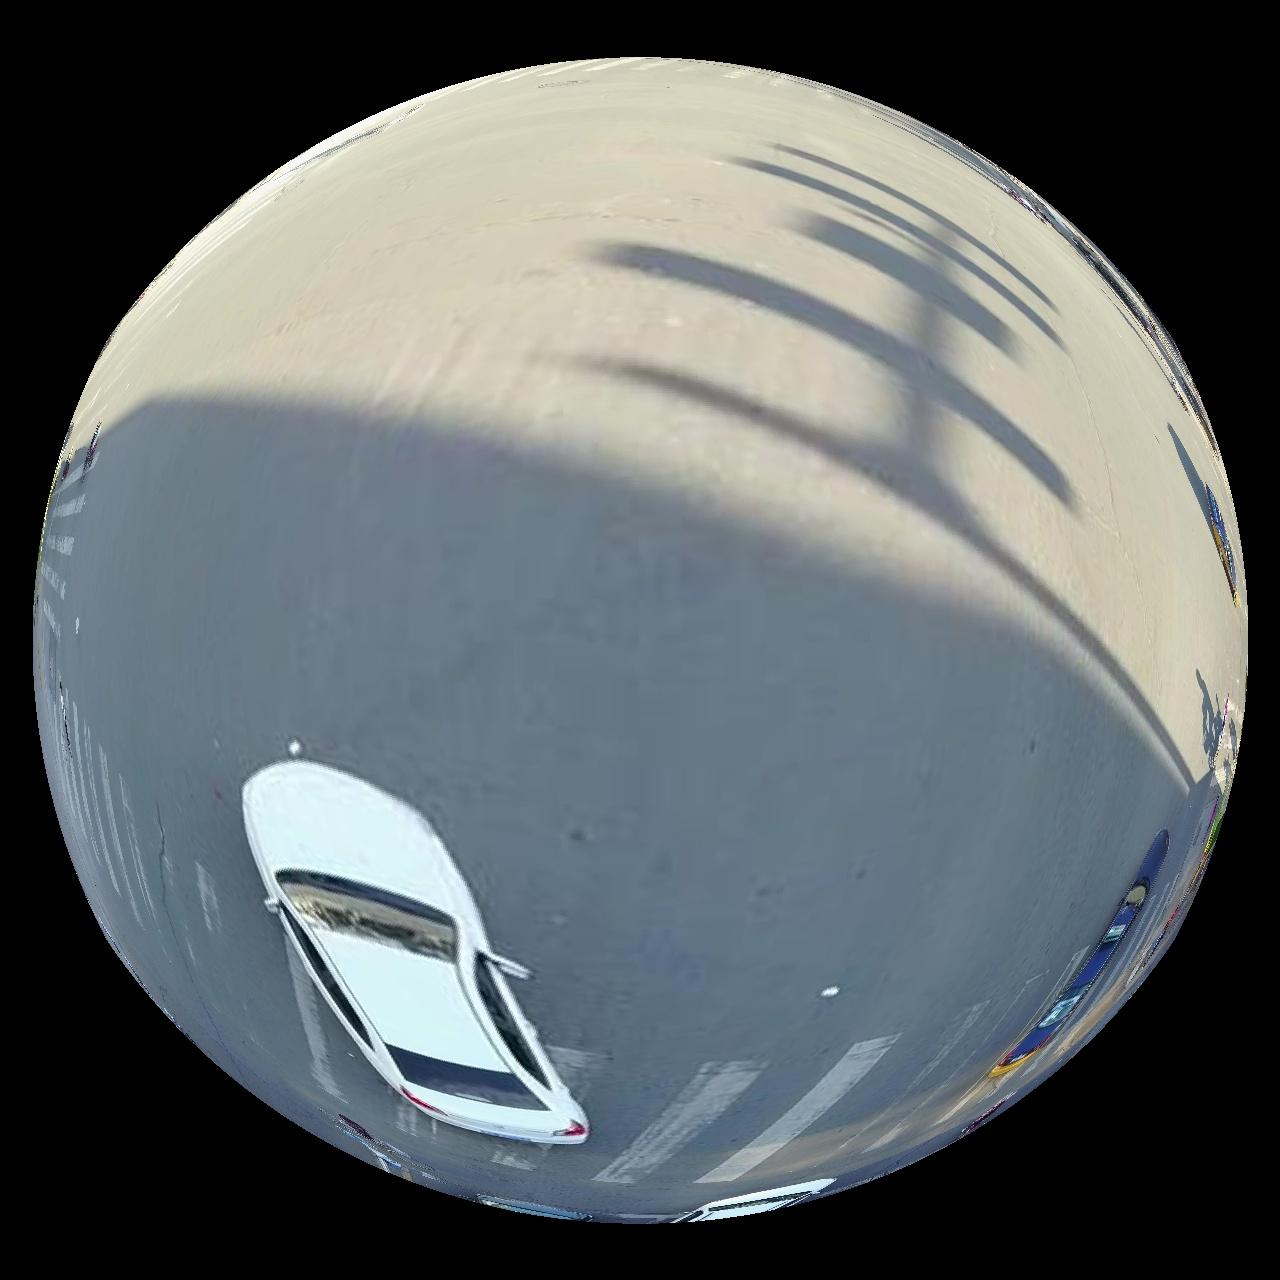cars: (242, 760, 589, 1146), (992, 832, 1170, 1080), (679, 1180, 835, 1226)
